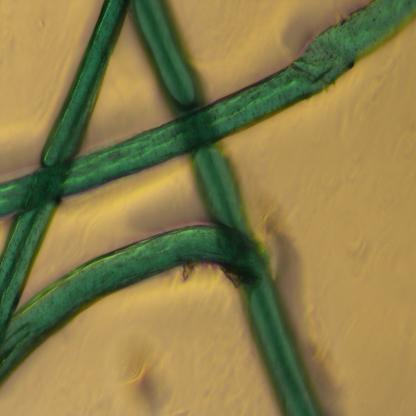Background material: (260, 204, 313, 309), (119, 334, 177, 414), (340, 224, 374, 270)
Microfibre: (0, 4, 416, 215), (130, 0, 320, 415), (0, 1, 130, 342), (0, 220, 268, 381)
